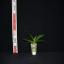leaf: (26, 31, 34, 42), (35, 35, 44, 42), (23, 39, 34, 43), (35, 39, 45, 43), (26, 42, 34, 45), (34, 36, 37, 41)
